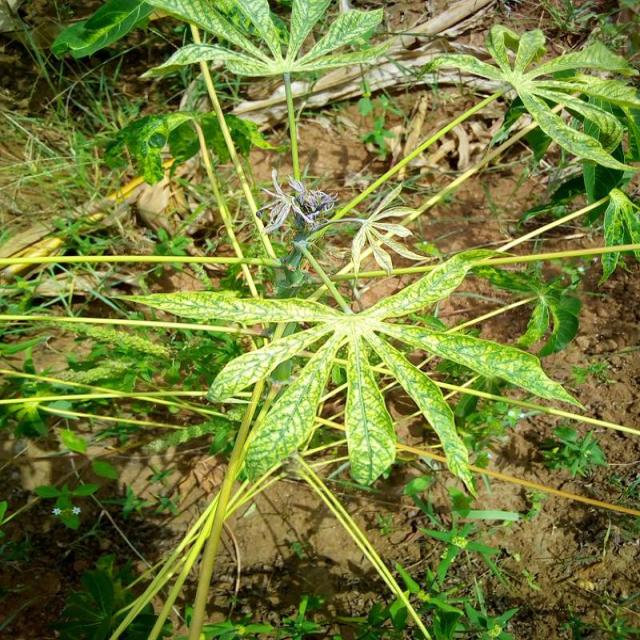cassava leaf: (120, 243, 584, 495), (343, 333, 397, 486)
